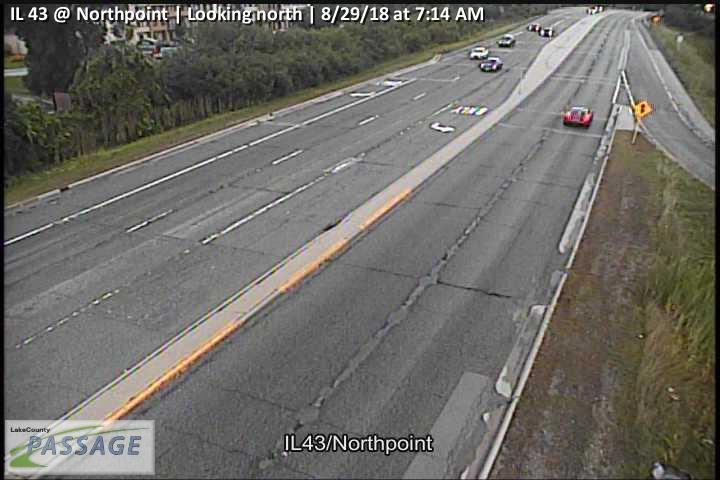SUV: (497, 34, 516, 47)
Sedan: (562, 106, 593, 129), (479, 57, 503, 72), (470, 45, 488, 59)
